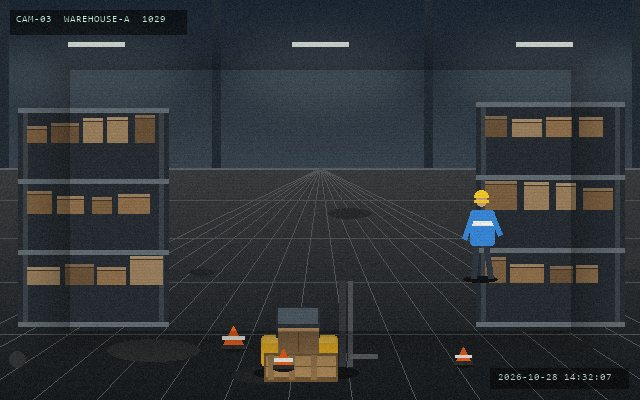cone: (220, 324, 246, 351), (272, 347, 294, 371), (453, 345, 473, 367)
forklift: (257, 279, 378, 380)
pallet: (262, 351, 339, 383)
person: (462, 188, 502, 281)
shelf: (476, 102, 624, 322), (18, 108, 168, 322)
